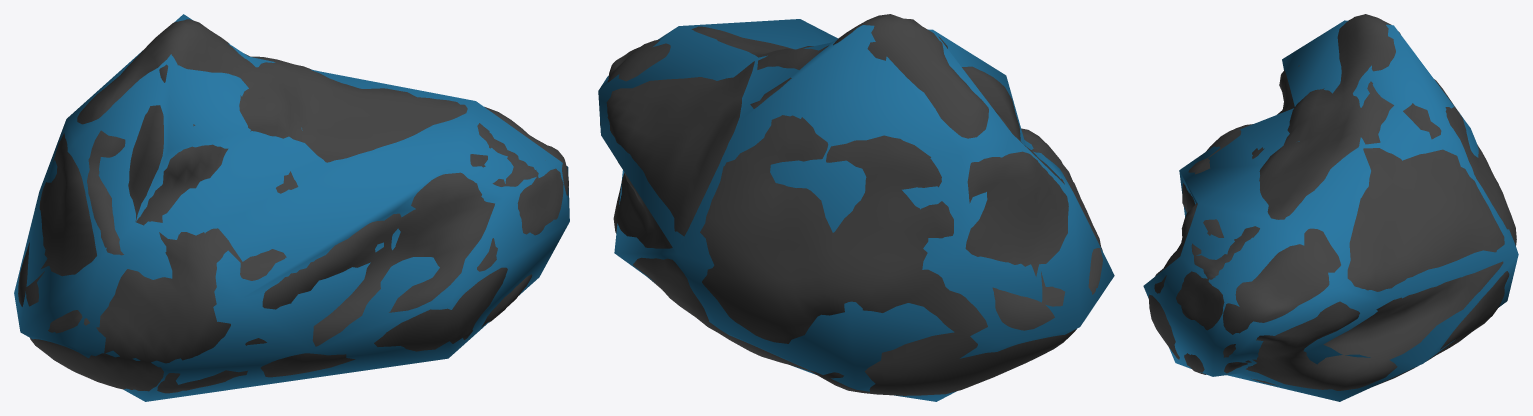
File: ore_2.fbx
The picture shows the model from 3 angles, left to right: view 1: azimuth 30°, elevation 25°; view 2: azimuth 150°, elevation 25°; view 3: azimuth 270°, elevation 25°; orthographic projection. The views are drawn at different scales.
Visible parts, largest first — view 1: UTM_MetalOre, MetalOre_LOD0; view 2: MetalOre_LOD0, UTM_MetalOre; view 3: MetalOre_LOD0, UTM_MetalOre.
Part boxes in pixels (<box>): UTM_MetalOre: <box>14,14,569,401</box>; MetalOre_LOD0: <box>18,19,568,393</box>; MetalOre_LOD0: <box>600,14,1102,395</box>; UTM_MetalOre: <box>598,19,1114,401</box>; MetalOre_LOD0: <box>1148,14,1516,390</box>; UTM_MetalOre: <box>1143,20,1518,401</box>.
Size of what is drawn, in the model's own units: 128 by 83.21 by 90.15.
